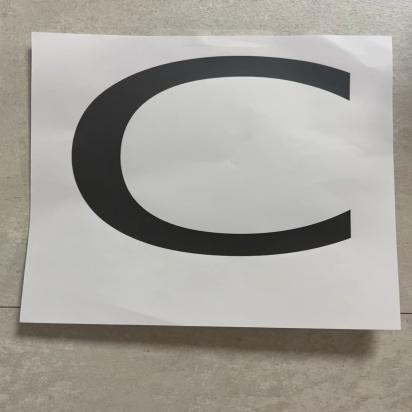seat: (33, 28, 410, 325)
